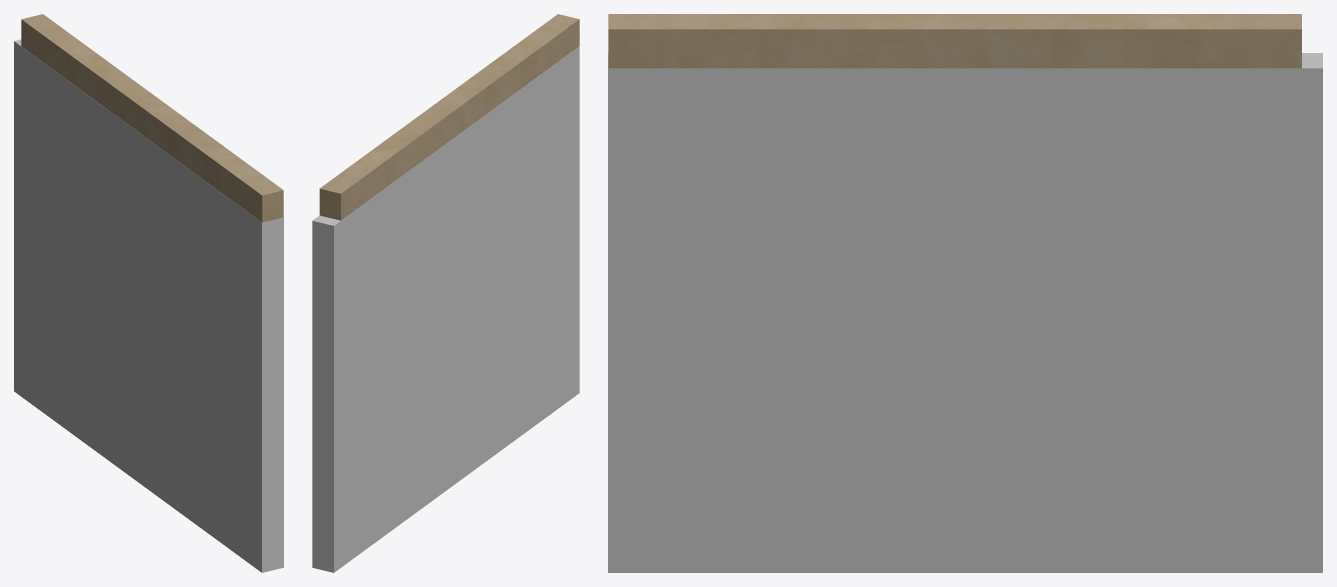
Rendered from SM_DG_InsideWallpaper01J.fbx.
3 views of the same model, side by side, from view 1: azimuth 30°, elevation 25°; view 2: azimuth 150°, elevation 25°; view 3: azimuth 270°, elevation 25° (orthographic). The views are drawn at different scales.
Visible parts, largest first — view 1: SM_DG_InsideWallpaper01J_ConvexHulls, SM_DG_InsideWallpaper01J; view 2: SM_DG_InsideWallpaper01J_ConvexHulls, SM_DG_InsideWallpaper01J; view 3: SM_DG_InsideWallpaper01J_ConvexHulls, SM_DG_InsideWallpaper01J.
Boxes of the visible parts, x1,y1,x2,y2 form: SM_DG_InsideWallpaper01J_ConvexHulls: (14,39,283,572); SM_DG_InsideWallpaper01J: (21,14,283,222); SM_DG_InsideWallpaper01J_ConvexHulls: (312,46,579,572); SM_DG_InsideWallpaper01J: (319,14,579,220); SM_DG_InsideWallpaper01J_ConvexHulls: (608,53,1322,572); SM_DG_InsideWallpaper01J: (608,14,1301,68).
Bounding box in the file's own units: 17.64 × 346 × 291.
